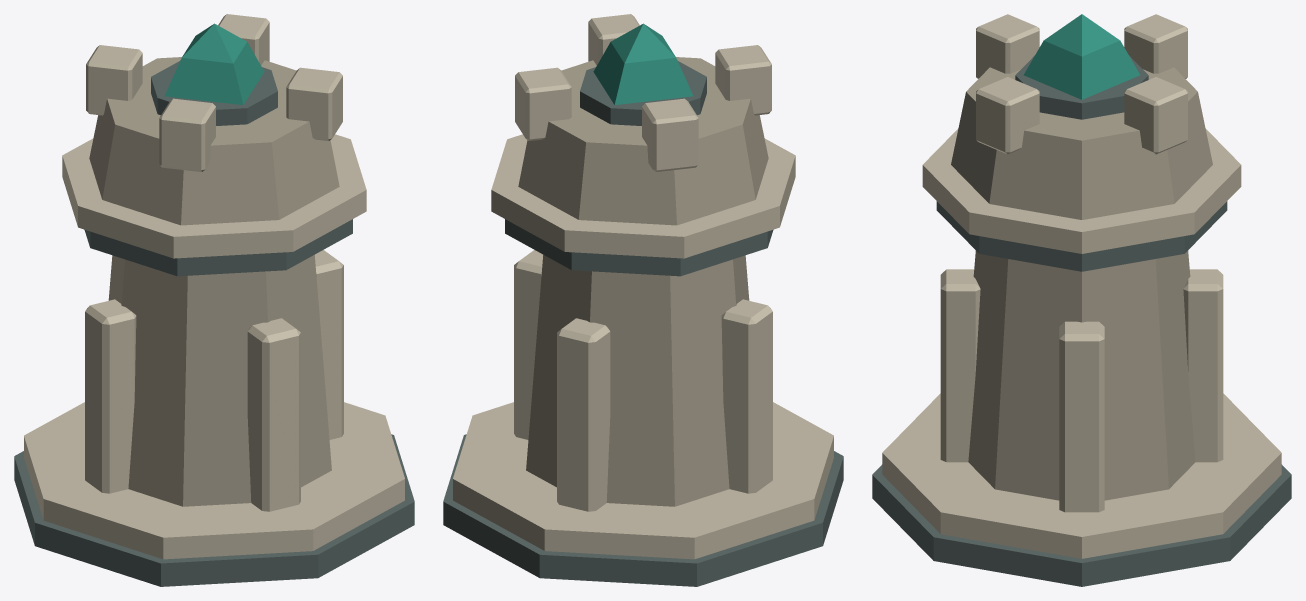
File: tower-teal.glb
3 views of the same model, side by side, from view 1: azimuth 30°, elevation 25°; view 2: azimuth 150°, elevation 25°; view 3: azimuth 270°, elevation 25° (orthographic).
Parts seen in each view (by area): view 1: plinth; view 2: plinth; view 3: plinth.
Part boxes in pixels (left/top/right/bottom): plinth: left=14, top=14, right=414, bottom=586; plinth: left=443, top=14, right=843, bottom=586; plinth: left=872, top=14, right=1291, bottom=586.
Size of the model in its own units: 4.16 by 5.3 by 4.16.
